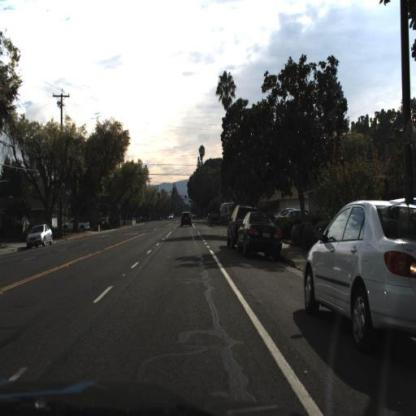car: (305, 199, 416, 350), (235, 207, 285, 264), (240, 210, 284, 263), (25, 224, 55, 250), (227, 202, 242, 253), (60, 218, 96, 235), (179, 209, 196, 231), (209, 212, 221, 230)
